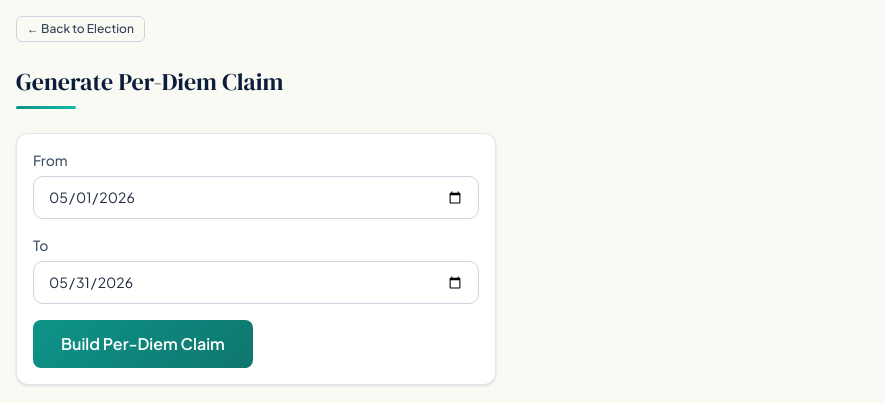
it: HospicePerDiemClaim › shows warning banner when builder returns warnings
Click the button "Build Per-Diem Claim".
click(143, 344)  # box [33,320,253,368]
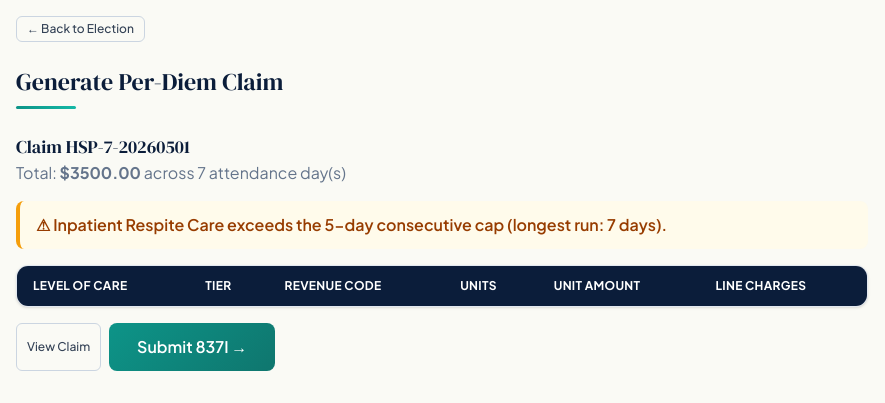
Now the message shows "longest run: 7", box [53,214,667,235]
